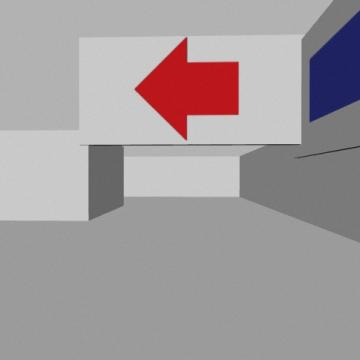red_left: (135, 38, 238, 140)
